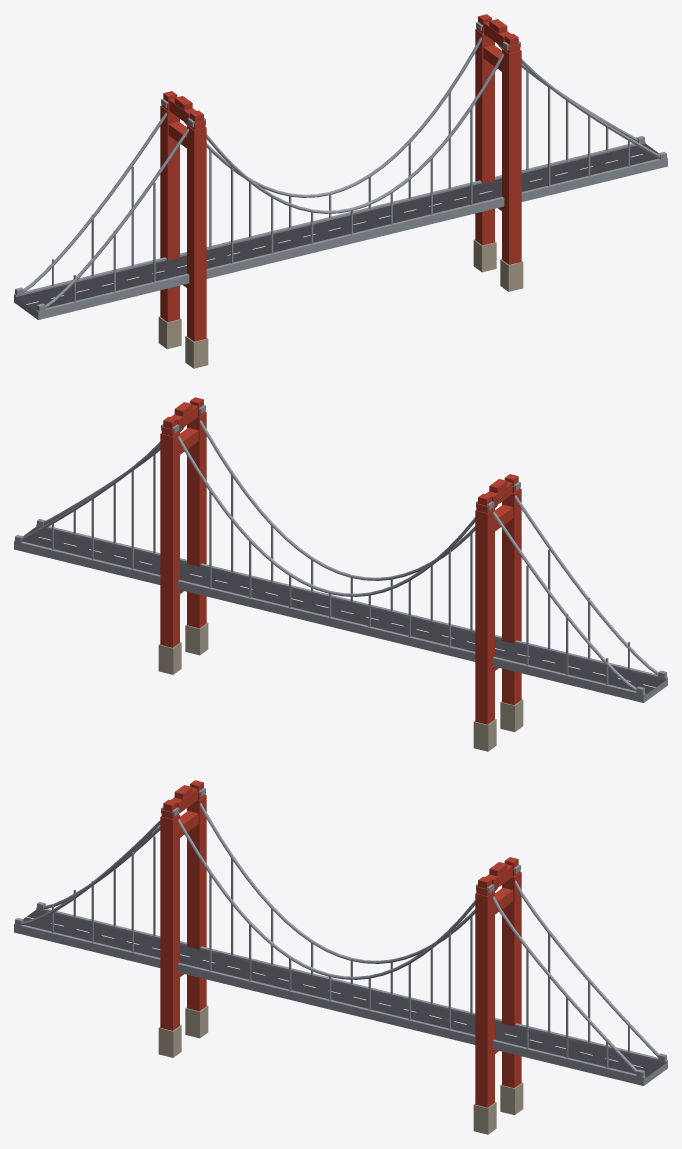
Rendered from Kit_RiverBridge.glb.
3 renders of one model, top to bottom at view 1: azimuth 30°, elevation 25°; view 2: azimuth 150°, elevation 25°; view 3: azimuth 330°, elevation 25°, orthographic.
Visible parts, largest first — view 1: Kit_RiverBridge; view 2: Kit_RiverBridge; view 3: Kit_RiverBridge.
Boxes of the visible parts, x1=… form: Kit_RiverBridge: x1=14, y1=14, x2=667, y2=368; Kit_RiverBridge: x1=14, y1=397, x2=667, y2=751; Kit_RiverBridge: x1=14, y1=780, x2=667, y2=1134.
Size of the model in its own units: 300 by 116 by 29.
